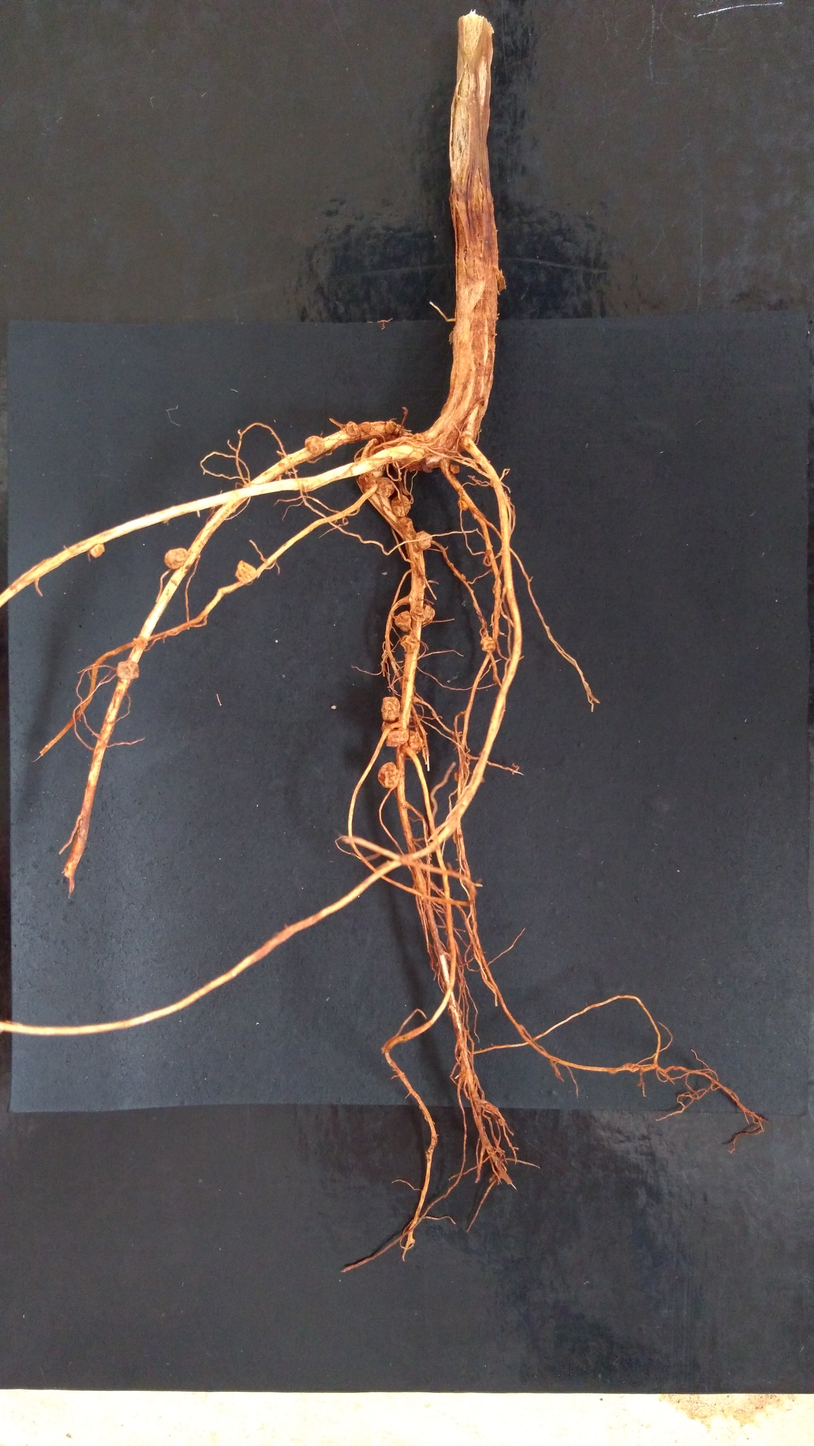nodule: (381, 721, 409, 747), (377, 761, 400, 789), (164, 547, 189, 570), (234, 560, 257, 583), (381, 696, 400, 723), (406, 729, 424, 756), (391, 494, 412, 517), (304, 435, 325, 456), (117, 660, 139, 680), (376, 477, 394, 498), (394, 611, 412, 632), (424, 453, 447, 469), (415, 530, 433, 550), (408, 448, 426, 465), (400, 635, 417, 653), (480, 635, 497, 652), (422, 603, 435, 625), (358, 472, 375, 488), (397, 518, 414, 534), (410, 605, 426, 622), (133, 636, 148, 652), (89, 543, 105, 558), (346, 421, 361, 436), (372, 464, 388, 478), (454, 769, 468, 782), (385, 421, 397, 435), (410, 433, 425, 444), (458, 498, 468, 511), (360, 422, 370, 433), (449, 464, 460, 474), (497, 1118, 505, 1126), (412, 695, 418, 705), (484, 549, 492, 556), (461, 574, 467, 581)
